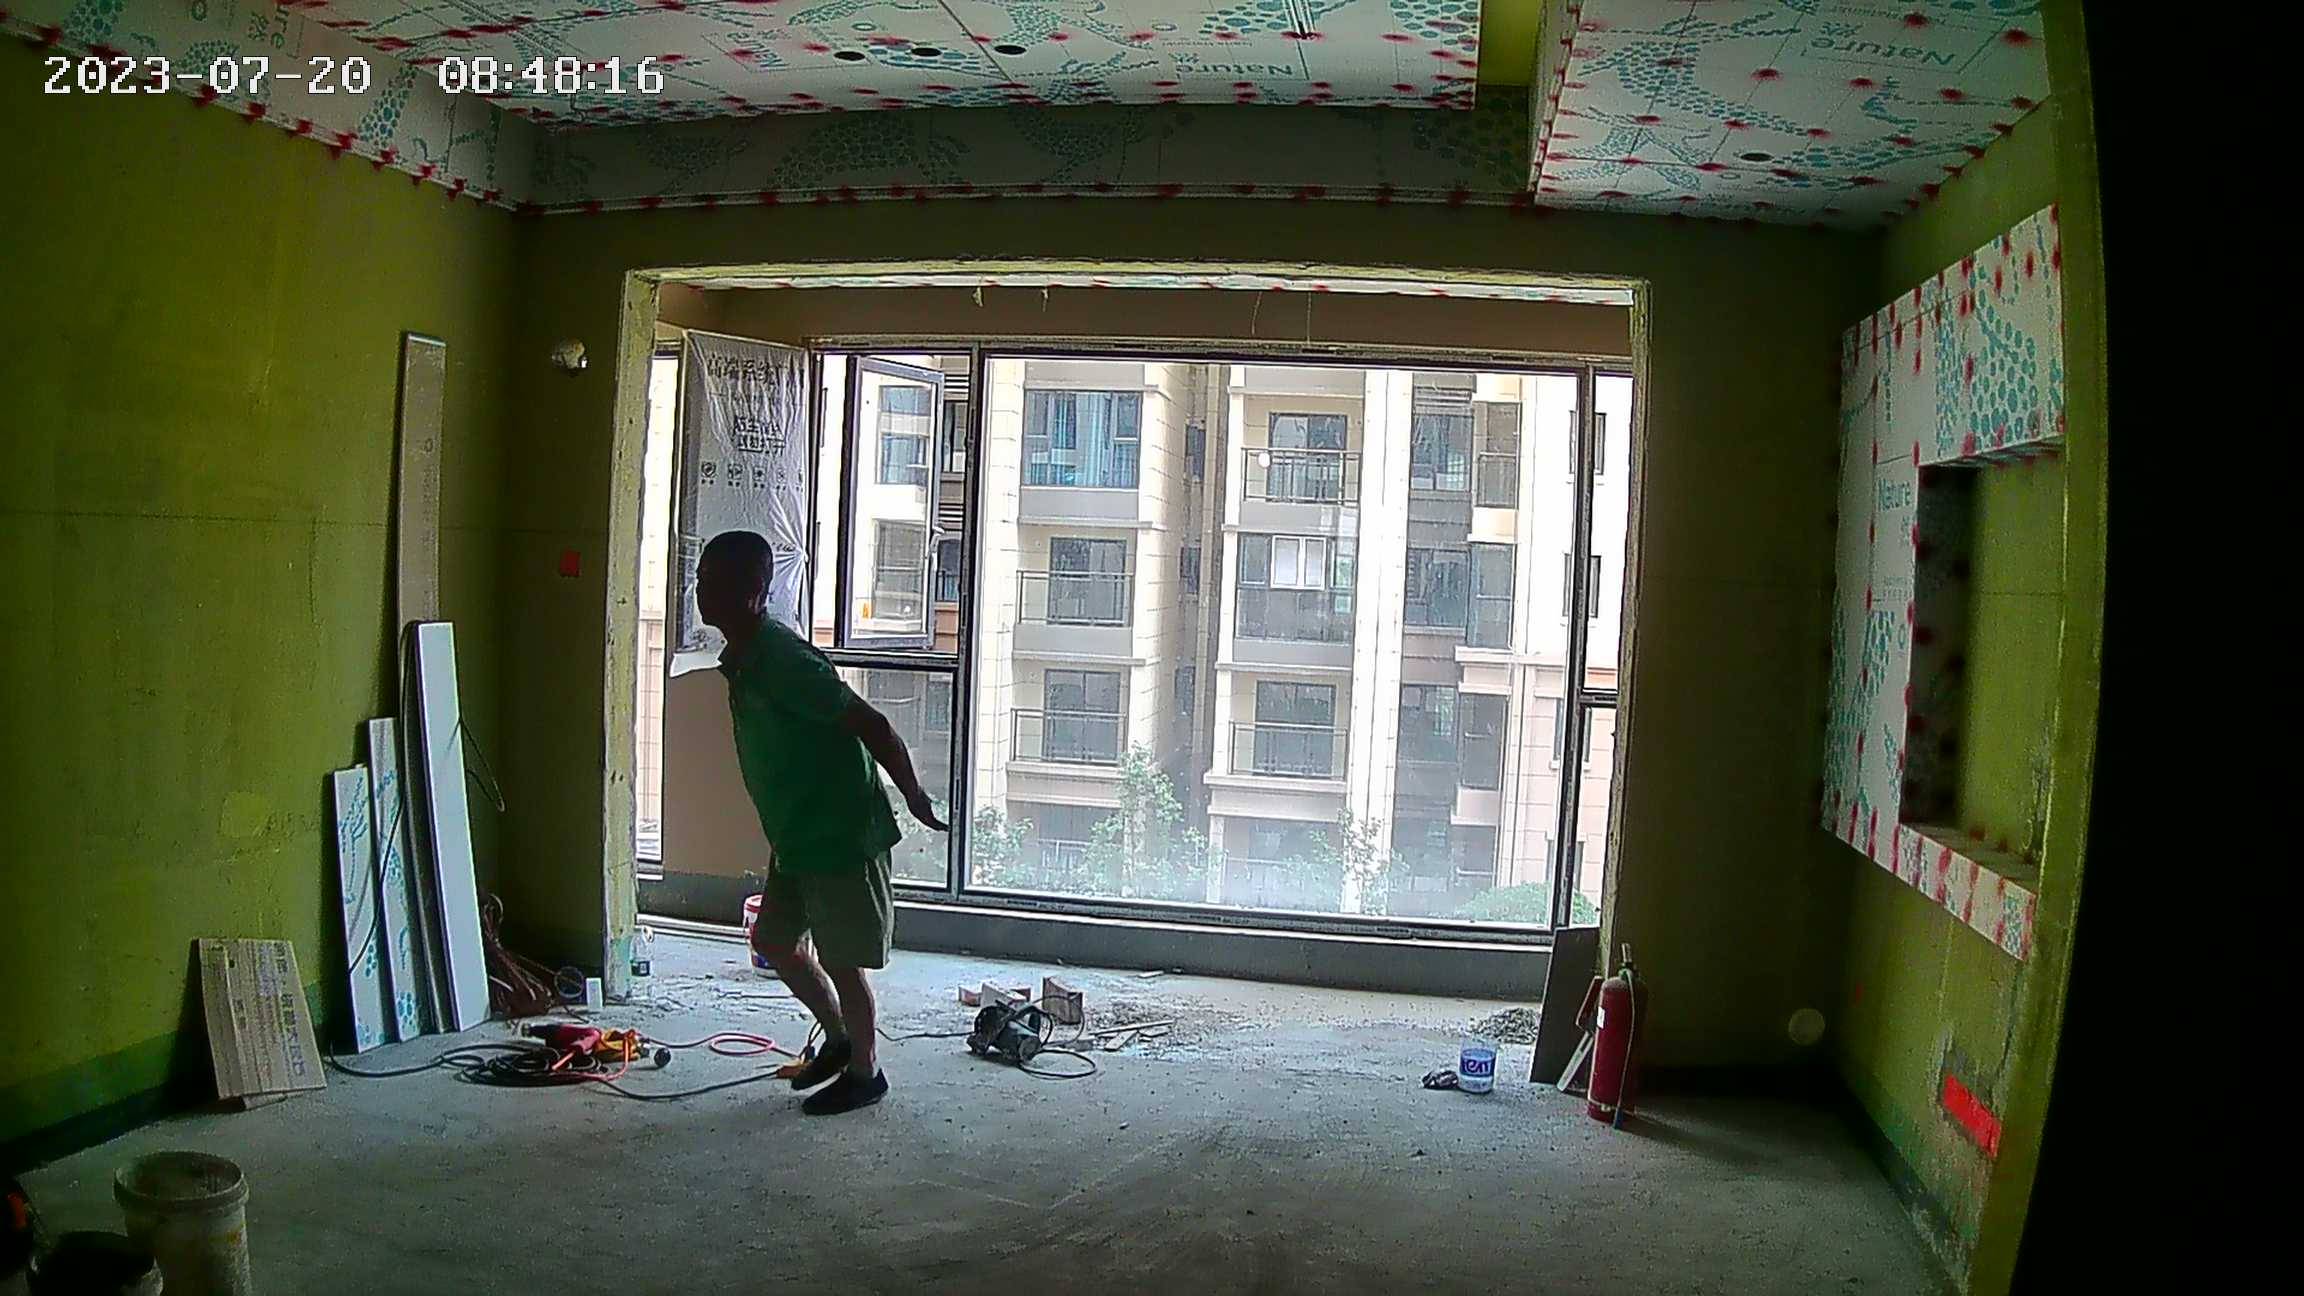people: (687, 530, 945, 1118)
window: (815, 353, 1622, 935)
